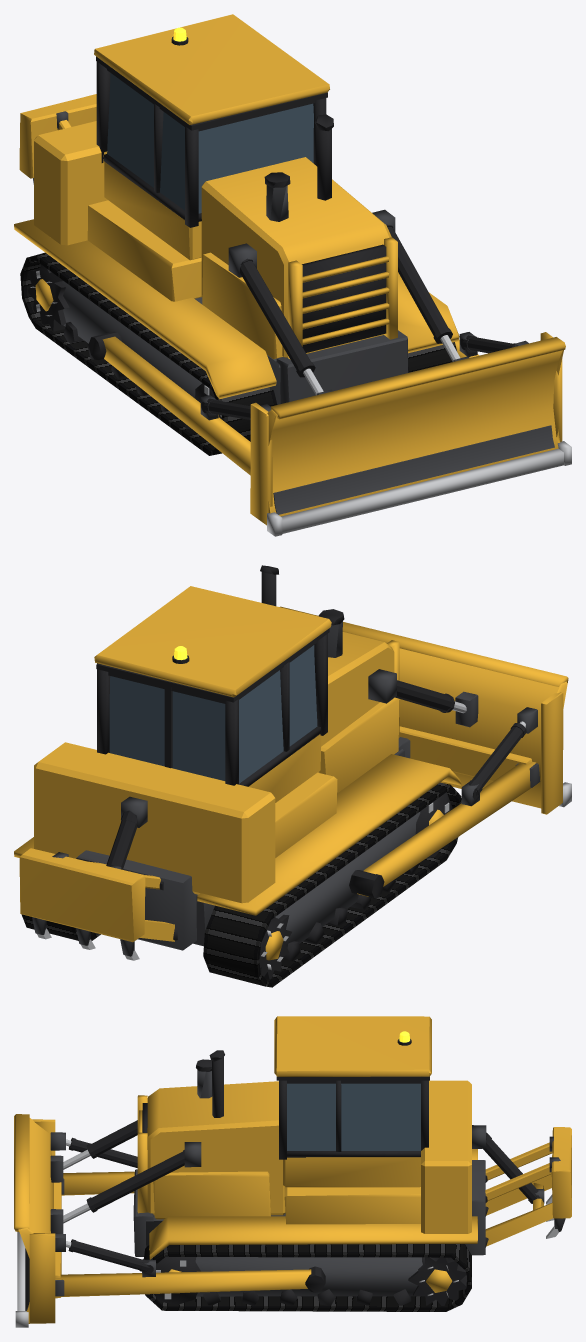
The model's file is dozer_LOD1.glb.
The picture shows the model from 3 angles, top to bottom: view 1: azimuth 30°, elevation 25°; view 2: azimuth 150°, elevation 25°; view 3: azimuth 270°, elevation 25°; orthographic projection. The views are drawn at different scales.
Parts seen in each view (by area): view 1: Chassis_LOD1, Blade_LOD1, Cab_LOD1, RightTrack_LOD1, BladeArmPivot_LOD1, RipperCarriage_LOD1, LiftCylinderRight_LOD1, RightSprocket_LOD1, LiftCylinderLeft_LOD1, LeftTrack_LOD1, PitchCylinderRight_LOD1; view 2: Chassis_LOD1, Cab_LOD1, Blade_LOD1, RightTrack_LOD1, RipperCarriage_LOD1, BladeArmPivot_LOD1, RightSprocket_LOD1, PitchCylinderRight_LOD1, LiftCylinderRight_LOD1, RipperCylinder_LOD1, RightIdler_LOD1, Ripper_LOD1 (+1 smaller); view 3: Chassis_LOD1, Cab_LOD1, LeftTrack_LOD1, Blade_LOD1, BladeArmPivot_LOD1, RipperCarriage_LOD1, Ripper_LOD1, LeftSprocket_LOD1, RipperUpperLink_LOD1, LiftCylinderLeft_LOD1, LeftIdler_LOD1, PitchCylinderLeft_LOD1 (+3 smaller).
Part boxes in pixels (<box>): Chassis_LOD1: <box>14,114,459,404</box>; Blade_LOD1: <box>250,332,571,536</box>; Cab_LOD1: <box>94,14,329,260</box>; RightTrack_LOD1: <box>20,252,277,455</box>; BladeArmPivot_LOD1: <box>88,331,479,475</box>; RipperCarriage_LOD1: <box>19,94,96,184</box>; LiftCylinderRight_LOD1: <box>240,258,315,377</box>; RightSprocket_LOD1: <box>28,264,69,331</box>; LiftCylinderLeft_LOD1: <box>386,224,452,343</box>; LeftTrack_LOD1: <box>408,342,456,372</box>; PitchCylinderRight_LOD1: <box>201,398,250,419</box>; Chassis_LOD1: <box>14,565,461,950</box>; Cab_LOD1: <box>94,586,331,802</box>; Blade_LOD1: <box>280,606,571,814</box>; RightTrack_LOD1: <box>203,782,461,987</box>; RipperCarriage_LOD1: <box>19,848,145,960</box>; BladeArmPivot_LOD1: <box>349,761,535,898</box>; RightSprocket_LOD1: <box>259,914,291,979</box>; PitchCylinderRight_LOD1: <box>468,723,526,799</box>; LiftCylinderRight_LOD1: <box>395,680,454,712</box>; RipperCylinder_LOD1: <box>106,810,137,869</box>; RightIdler_LOD1: <box>415,792,452,858</box>; Ripper_LOD1: <box>140,920,177,941</box>; Chassis_LOD1: <box>133,1050,486,1259</box>; Cab_LOD1: <box>274,1016,431,1187</box>; LeftTrack_LOD1: <box>143,1244,471,1311</box>; Blade_LOD1: <box>14,1114,65,1327</box>; BladeArmPivot_LOD1: <box>55,1171,325,1297</box>; RipperCarriage_LOD1: <box>546,1127,571,1238</box>; Ripper_LOD1: <box>485,1174,553,1247</box>; LeftSprocket_LOD1: <box>408,1257,466,1305</box>; RipperUpperLink_LOD1: <box>485,1142,552,1202</box>; LiftCylinderLeft_LOD1: <box>86,1150,184,1212</box>; LeftIdler_LOD1: <box>154,1257,200,1304</box>; PitchCylinderLeft_LOD1: <box>68,1239,153,1273</box>.
Size of the model in its own units: 3.39 by 3.22 by 6.88.
7 materials, 1 textured.
